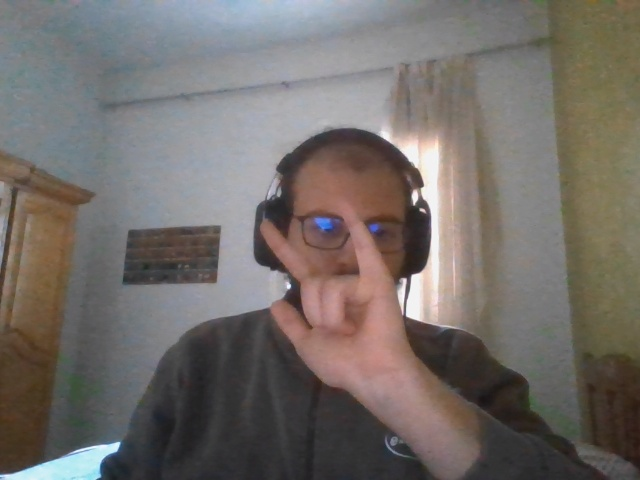I Love You: (261, 213, 400, 388)
